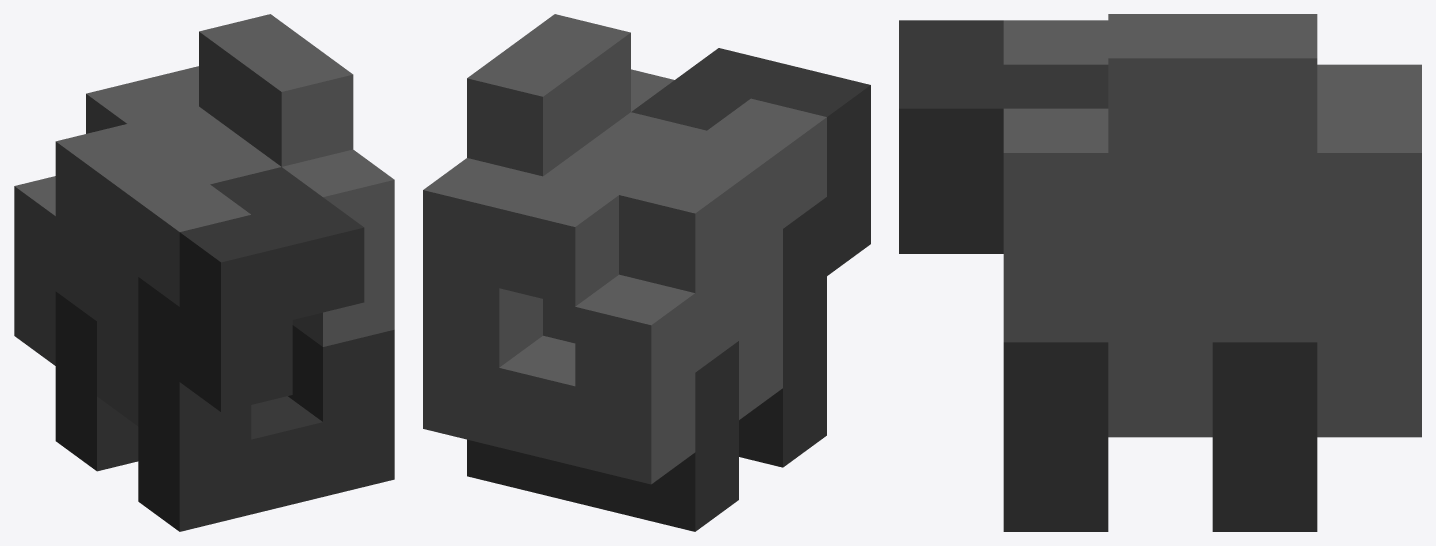
File: Arm-21.obj
3 renders of one model, left to right at view 1: azimuth 30°, elevation 25°; view 2: azimuth 150°, elevation 25°; view 3: azimuth 270°, elevation 25°, orthographic. The views are drawn at different scales.
Bounding box in the file's own units: 0.3 × 0.5 × 0.5.
1 material, 1 textured.
